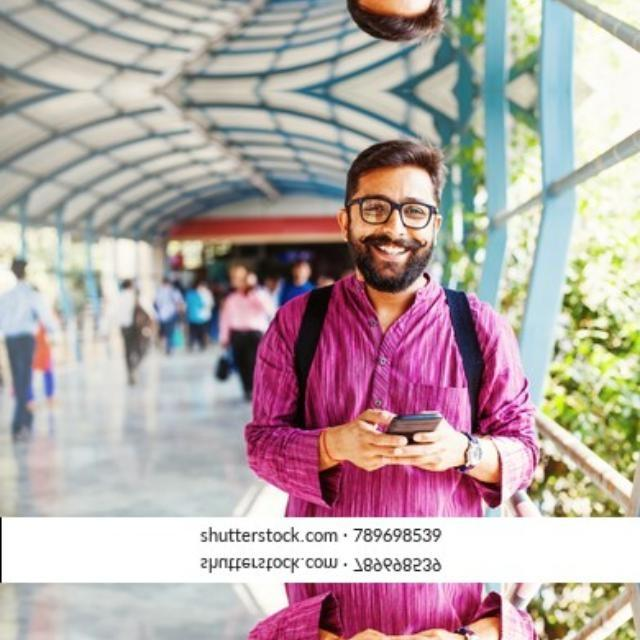person: (243, 134, 542, 518), (242, 581, 541, 640), (242, 0, 541, 46)
